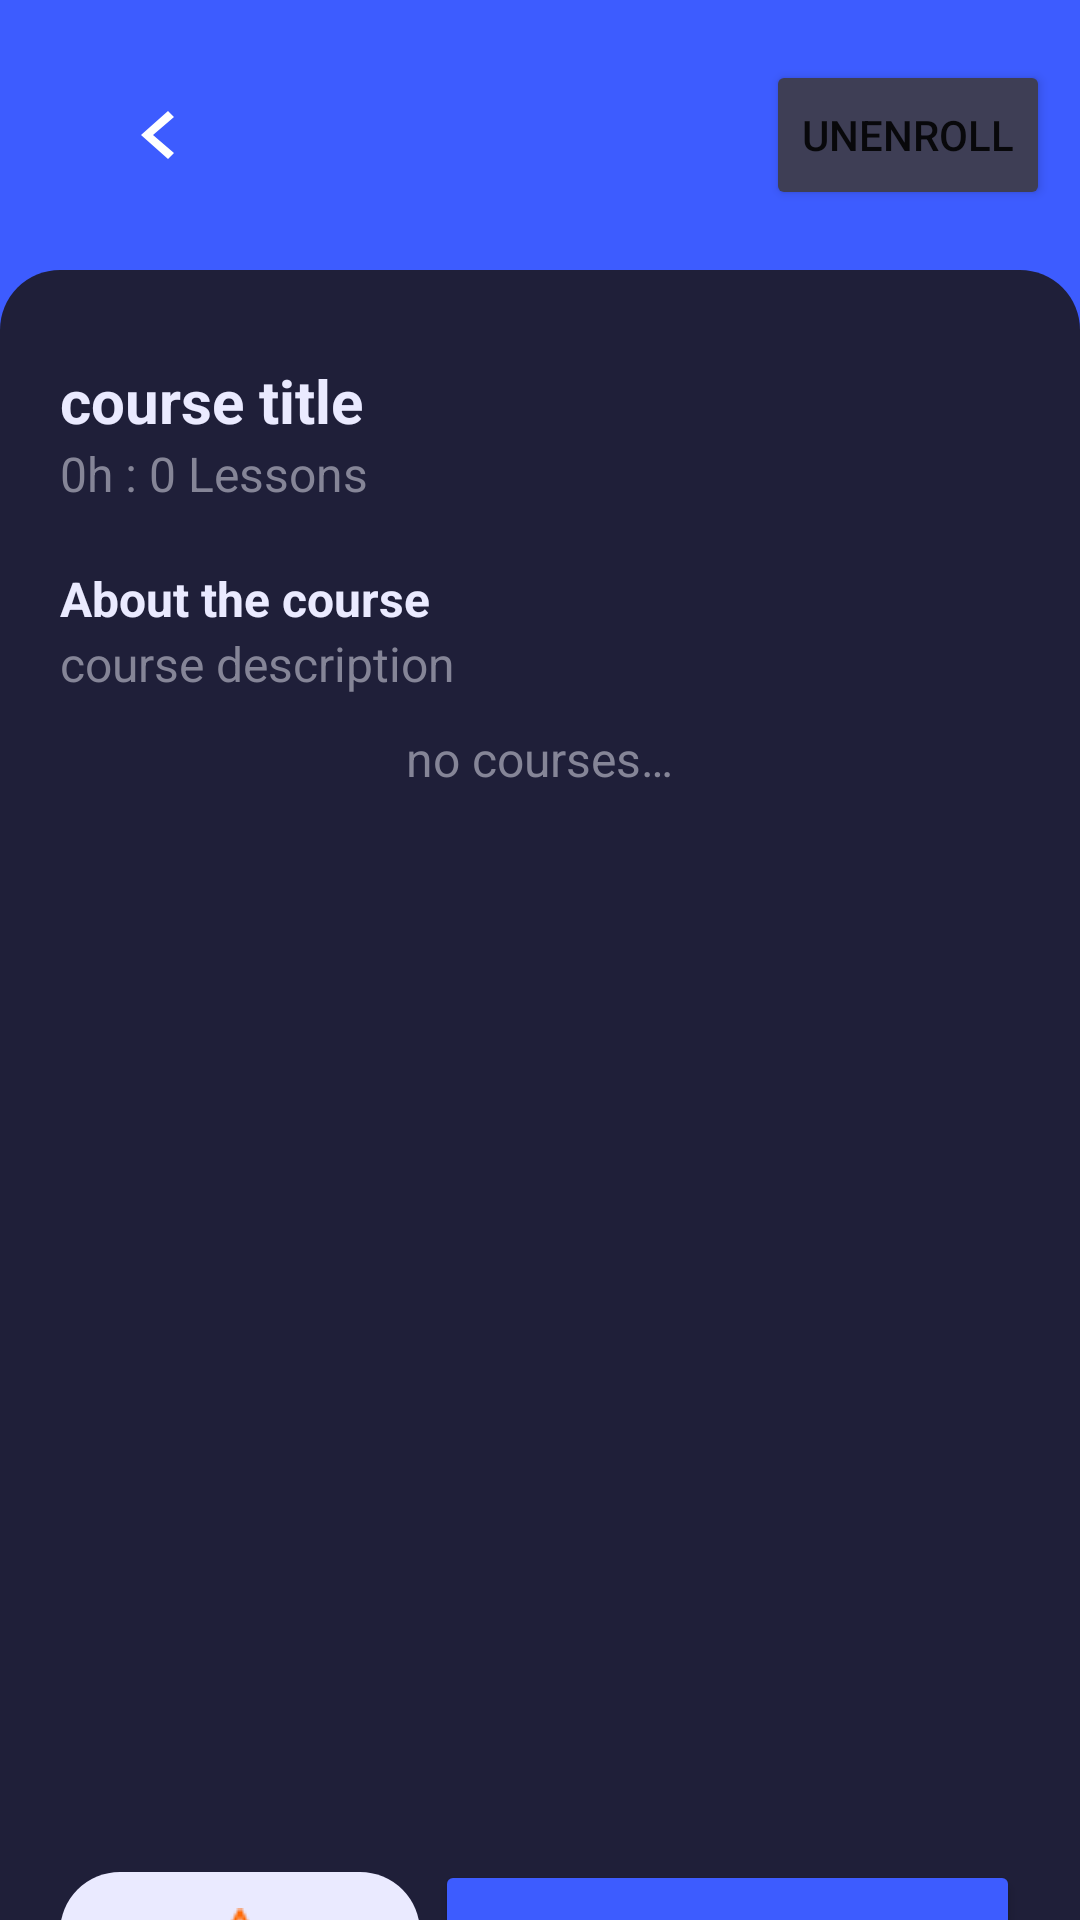

Named icons in this screenshot (1080×1920) and their centers, [x,y]:
back: [157,135]
